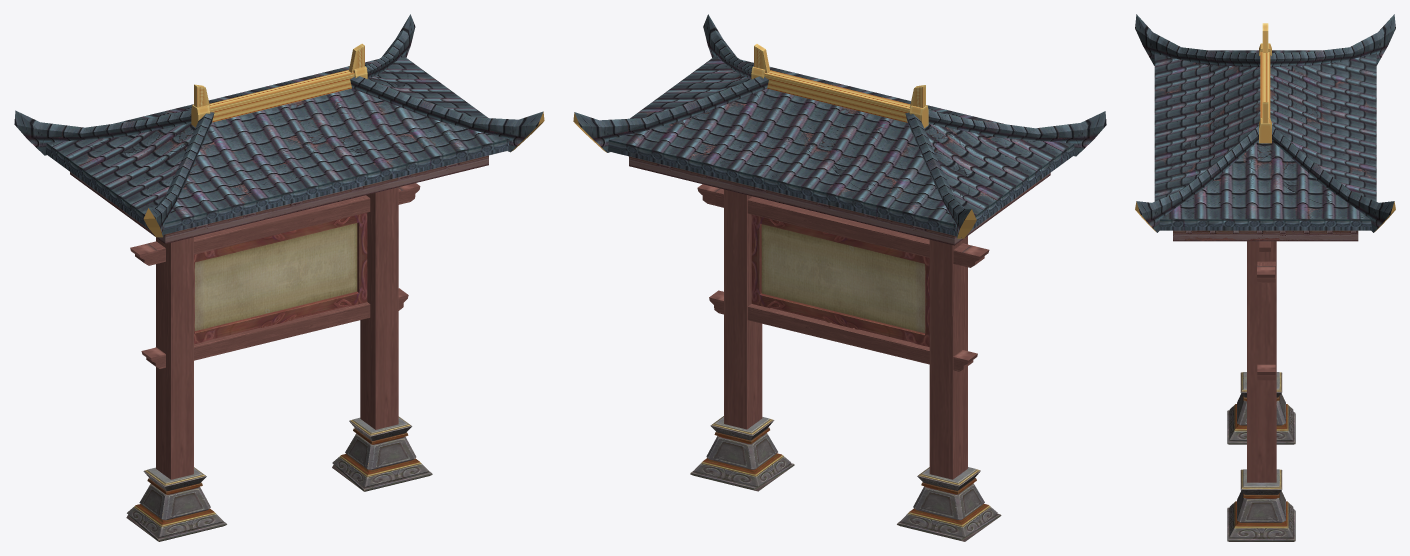
File: mod_zlc_paizi.FBX
The picture shows the model from 3 angles, left to right: view 1: azimuth 30°, elevation 25°; view 2: azimuth 150°, elevation 25°; view 3: azimuth 270°, elevation 25°; orthographic projection. The views are drawn at different scales.
Parts seen in each view (by area): view 1: mod_zlc_jianzhu084_xy; view 2: mod_zlc_jianzhu084_xy; view 3: mod_zlc_jianzhu084_xy.
Boxes of the visible parts, x1,y1,x2,y2 form: mod_zlc_jianzhu084_xy: (14,14,544,541); mod_zlc_jianzhu084_xy: (573,14,1106,541); mod_zlc_jianzhu084_xy: (1135,14,1395,541).
Size of the model in its own units: 217 by 222 by 126.
5 materials, 5 textured.
